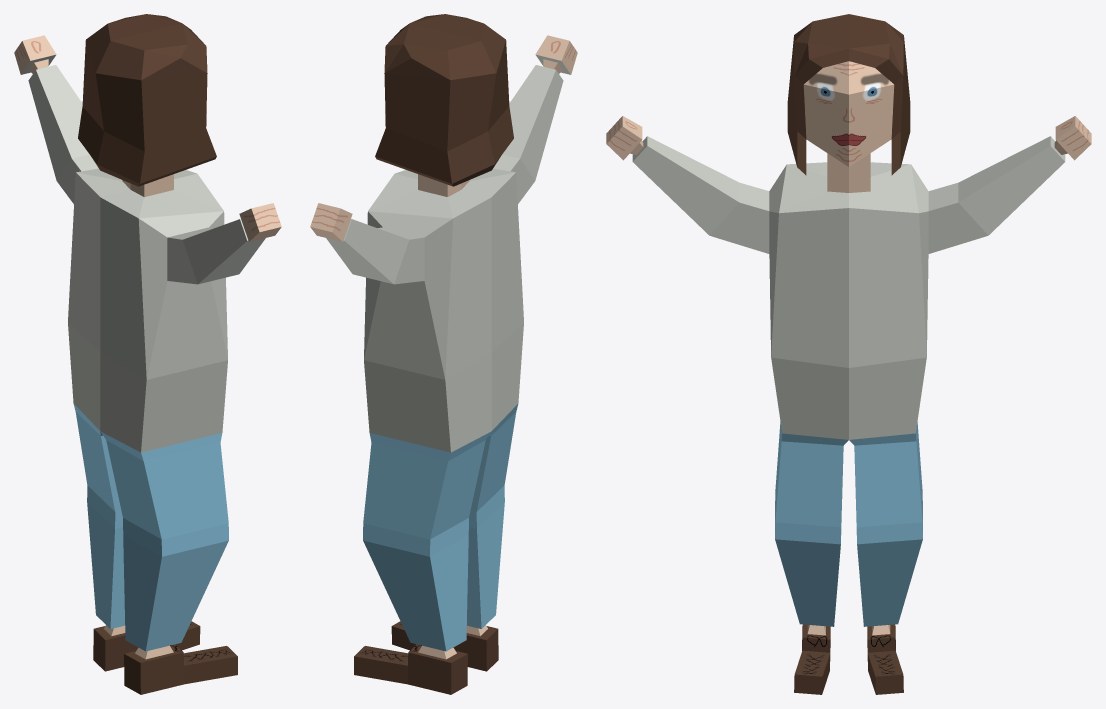
File: Cheering.fbx
3 renders of one model, left to right at view 1: azimuth 30°, elevation 25°; view 2: azimuth 150°, elevation 25°; view 3: azimuth 270°, elevation 25°, orthographic.
Parts seen in each view (by area): view 1: Cheering character; view 2: Cheering character; view 3: Cheering character.
Boxes of the visible parts, <box> form: Cheering character: <box>14,14,281,694</box>; Cheering character: <box>310,14,577,694</box>; Cheering character: <box>606,14,1091,694</box>.
Size of the model in its own units: 65.68 by 340 by 236.
